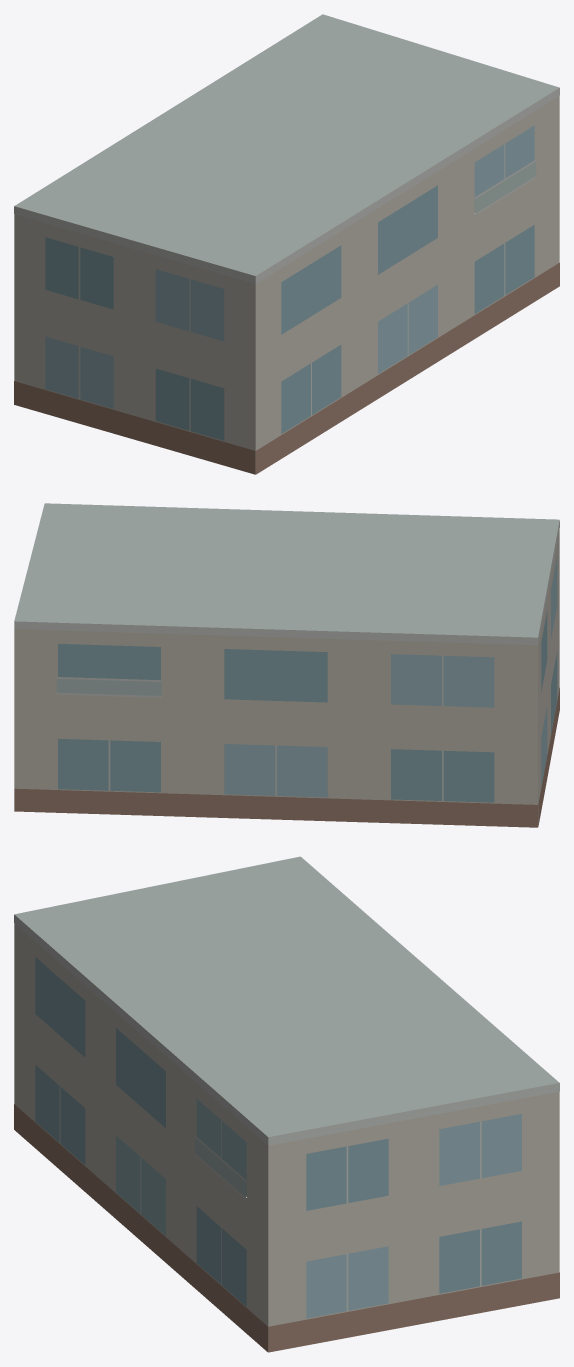
File: survey-upis-32700490.glb
3 renders of one model, top to bottom at view 1: azimuth 30°, elevation 25°; view 2: azimuth 150°, elevation 25°; view 3: azimuth 270°, elevation 25°, orthographic. The views are drawn at different scales.
Parts seen in each view (by area): view 1: survey-upis-32700490.tmp; view 2: survey-upis-32700490.tmp; view 3: survey-upis-32700490.tmp.
Boxes of the visible parts, left/top/right/bottom form: survey-upis-32700490.tmp: left=14, top=14, right=559, bottom=474; survey-upis-32700490.tmp: left=14, top=503, right=559, bottom=827; survey-upis-32700490.tmp: left=14, top=856, right=559, bottom=1352.
Size of the model in its own units: 17.07 by 6.1 by 14.02.
